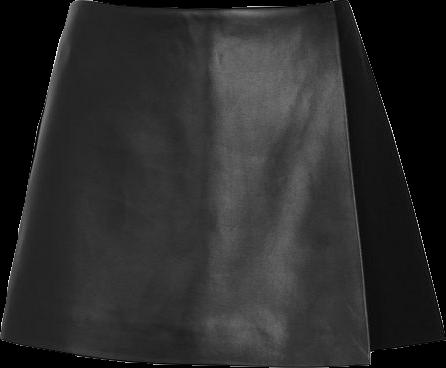Hemline: (0, 6, 373, 367), (2, 336, 445, 367)
Waistline: (75, 0, 348, 13)
